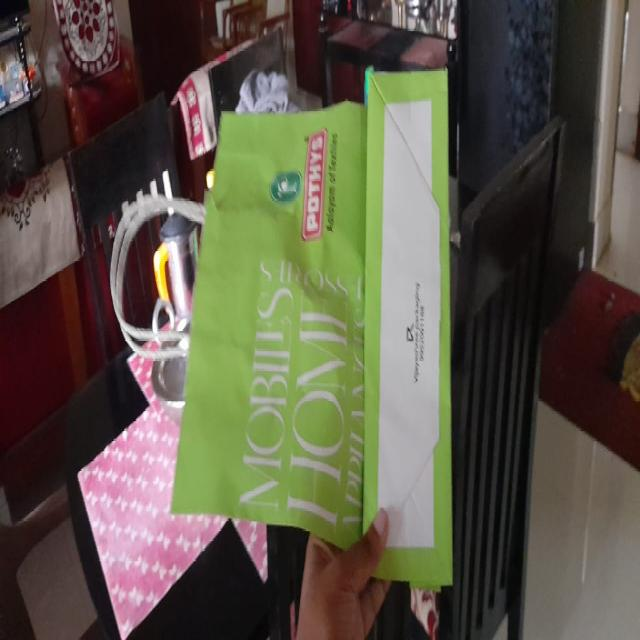Paper_Bag - Recyclable: (169, 67, 453, 589)
